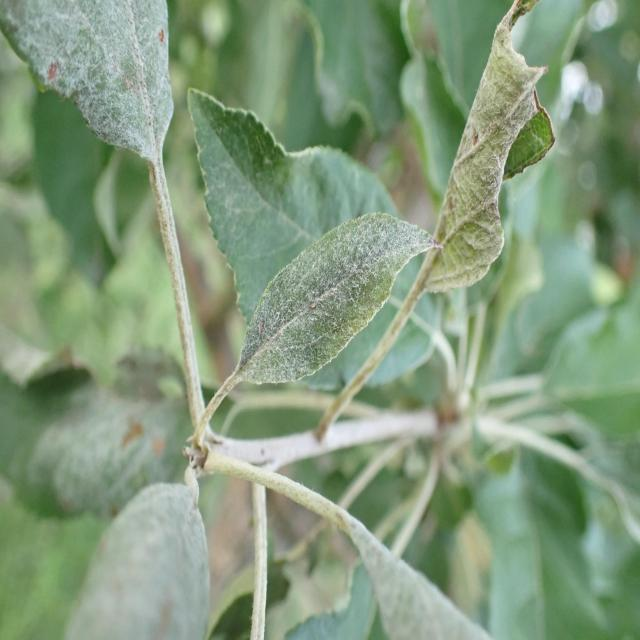Powdery_mildew: (0, 0, 211, 338), (407, 0, 559, 380), (0, 319, 255, 511), (230, 197, 437, 397), (40, 454, 212, 640), (326, 508, 517, 640)
